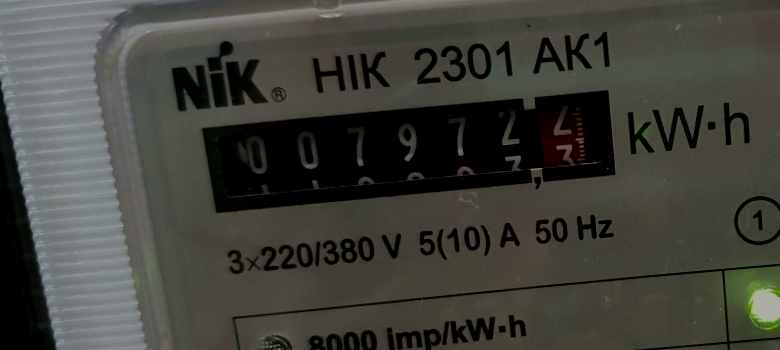0: (242, 132, 271, 175), (293, 127, 321, 171)
2: (496, 107, 522, 147), (547, 103, 573, 138)
3: (552, 140, 576, 167)
7: (444, 112, 473, 160), (343, 122, 371, 169)
9: (394, 118, 420, 163)
screen: (184, 76, 634, 228)
